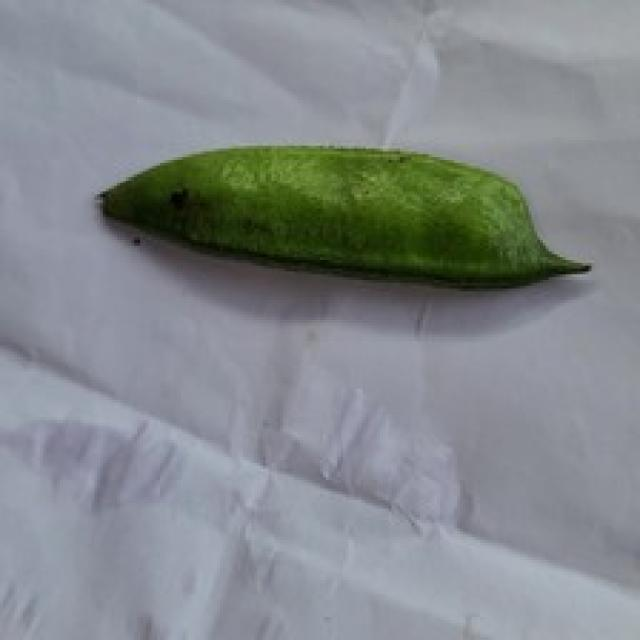Bean: (94, 140, 592, 289)
